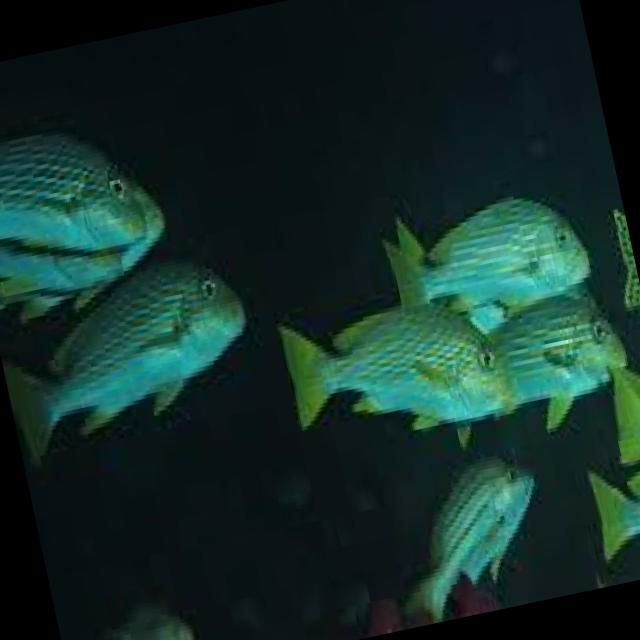RibbonedSweetlips: (0, 244, 266, 466), (278, 281, 520, 459), (0, 110, 179, 329), (376, 176, 596, 340), (378, 446, 560, 628), (480, 284, 640, 438)
